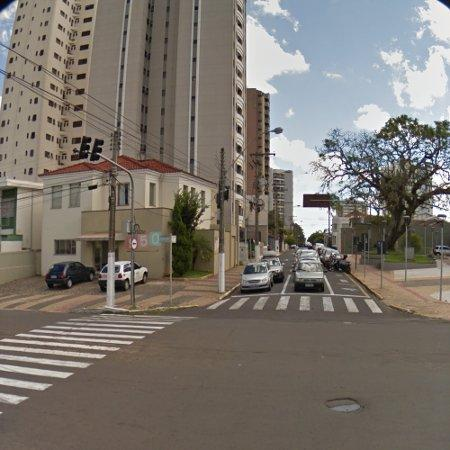crosswalks: (211, 294, 384, 315)
